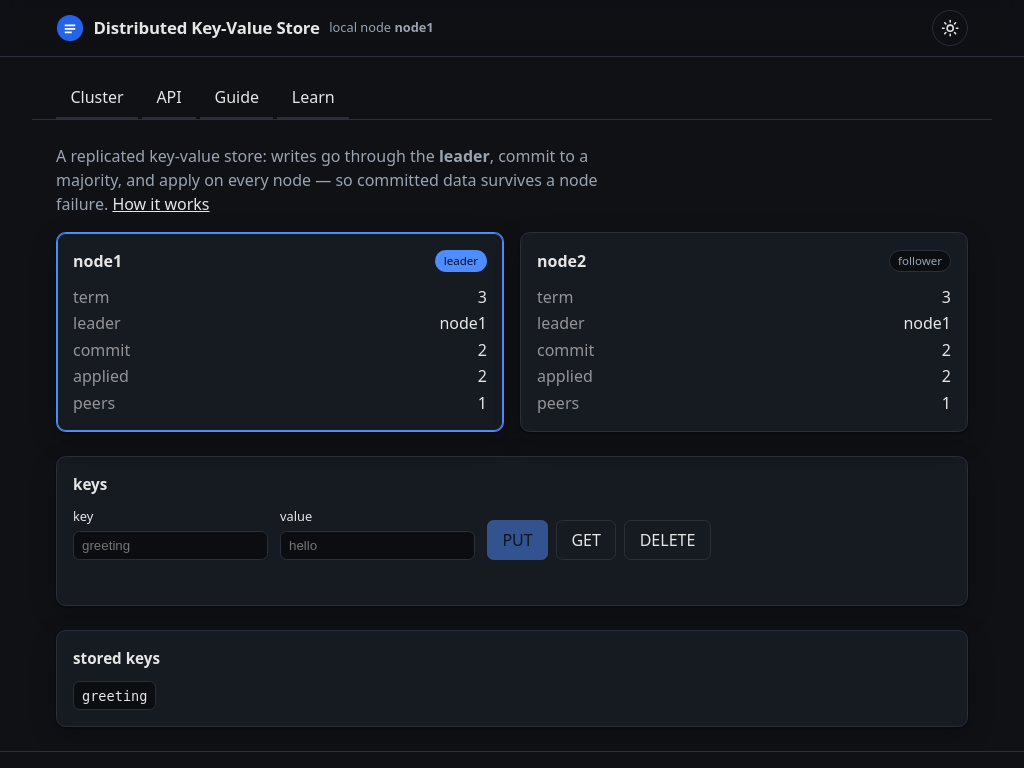
Scenario: App › loads a clicked stored key into the console
Click the button "greeting": [115, 696] box [73, 681, 156, 710]
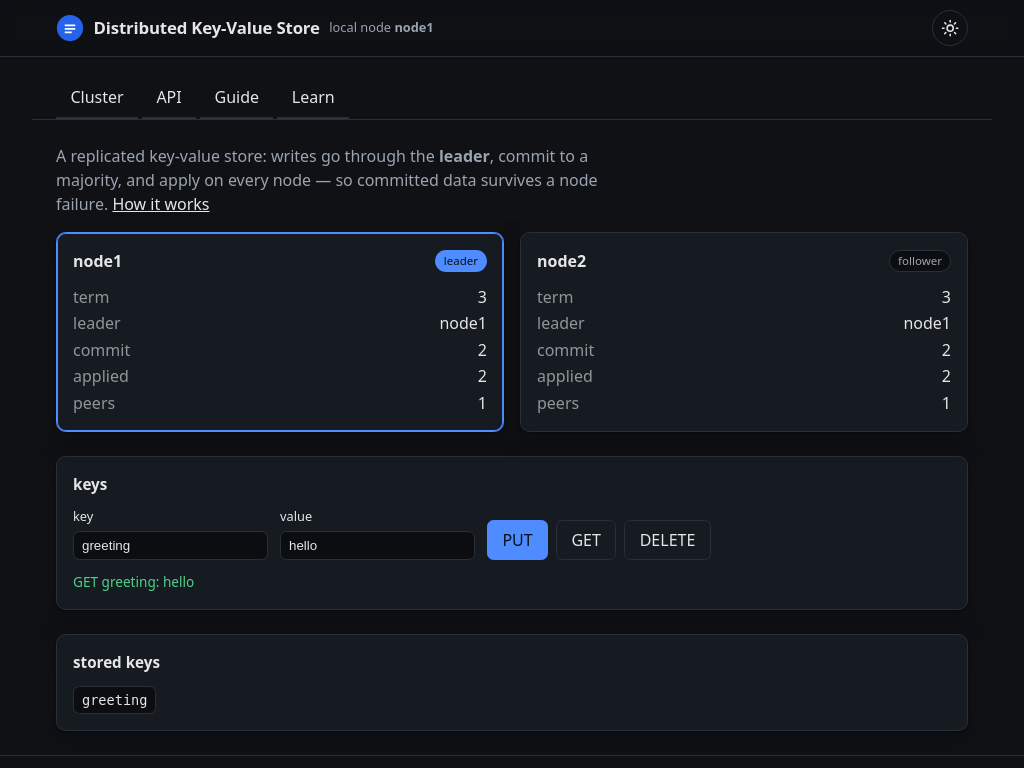
Now the text "GET greeting: hello" is shown, box [73, 572, 194, 591]
Now the field labelled "value" holds "hello", box [280, 530, 475, 560]
